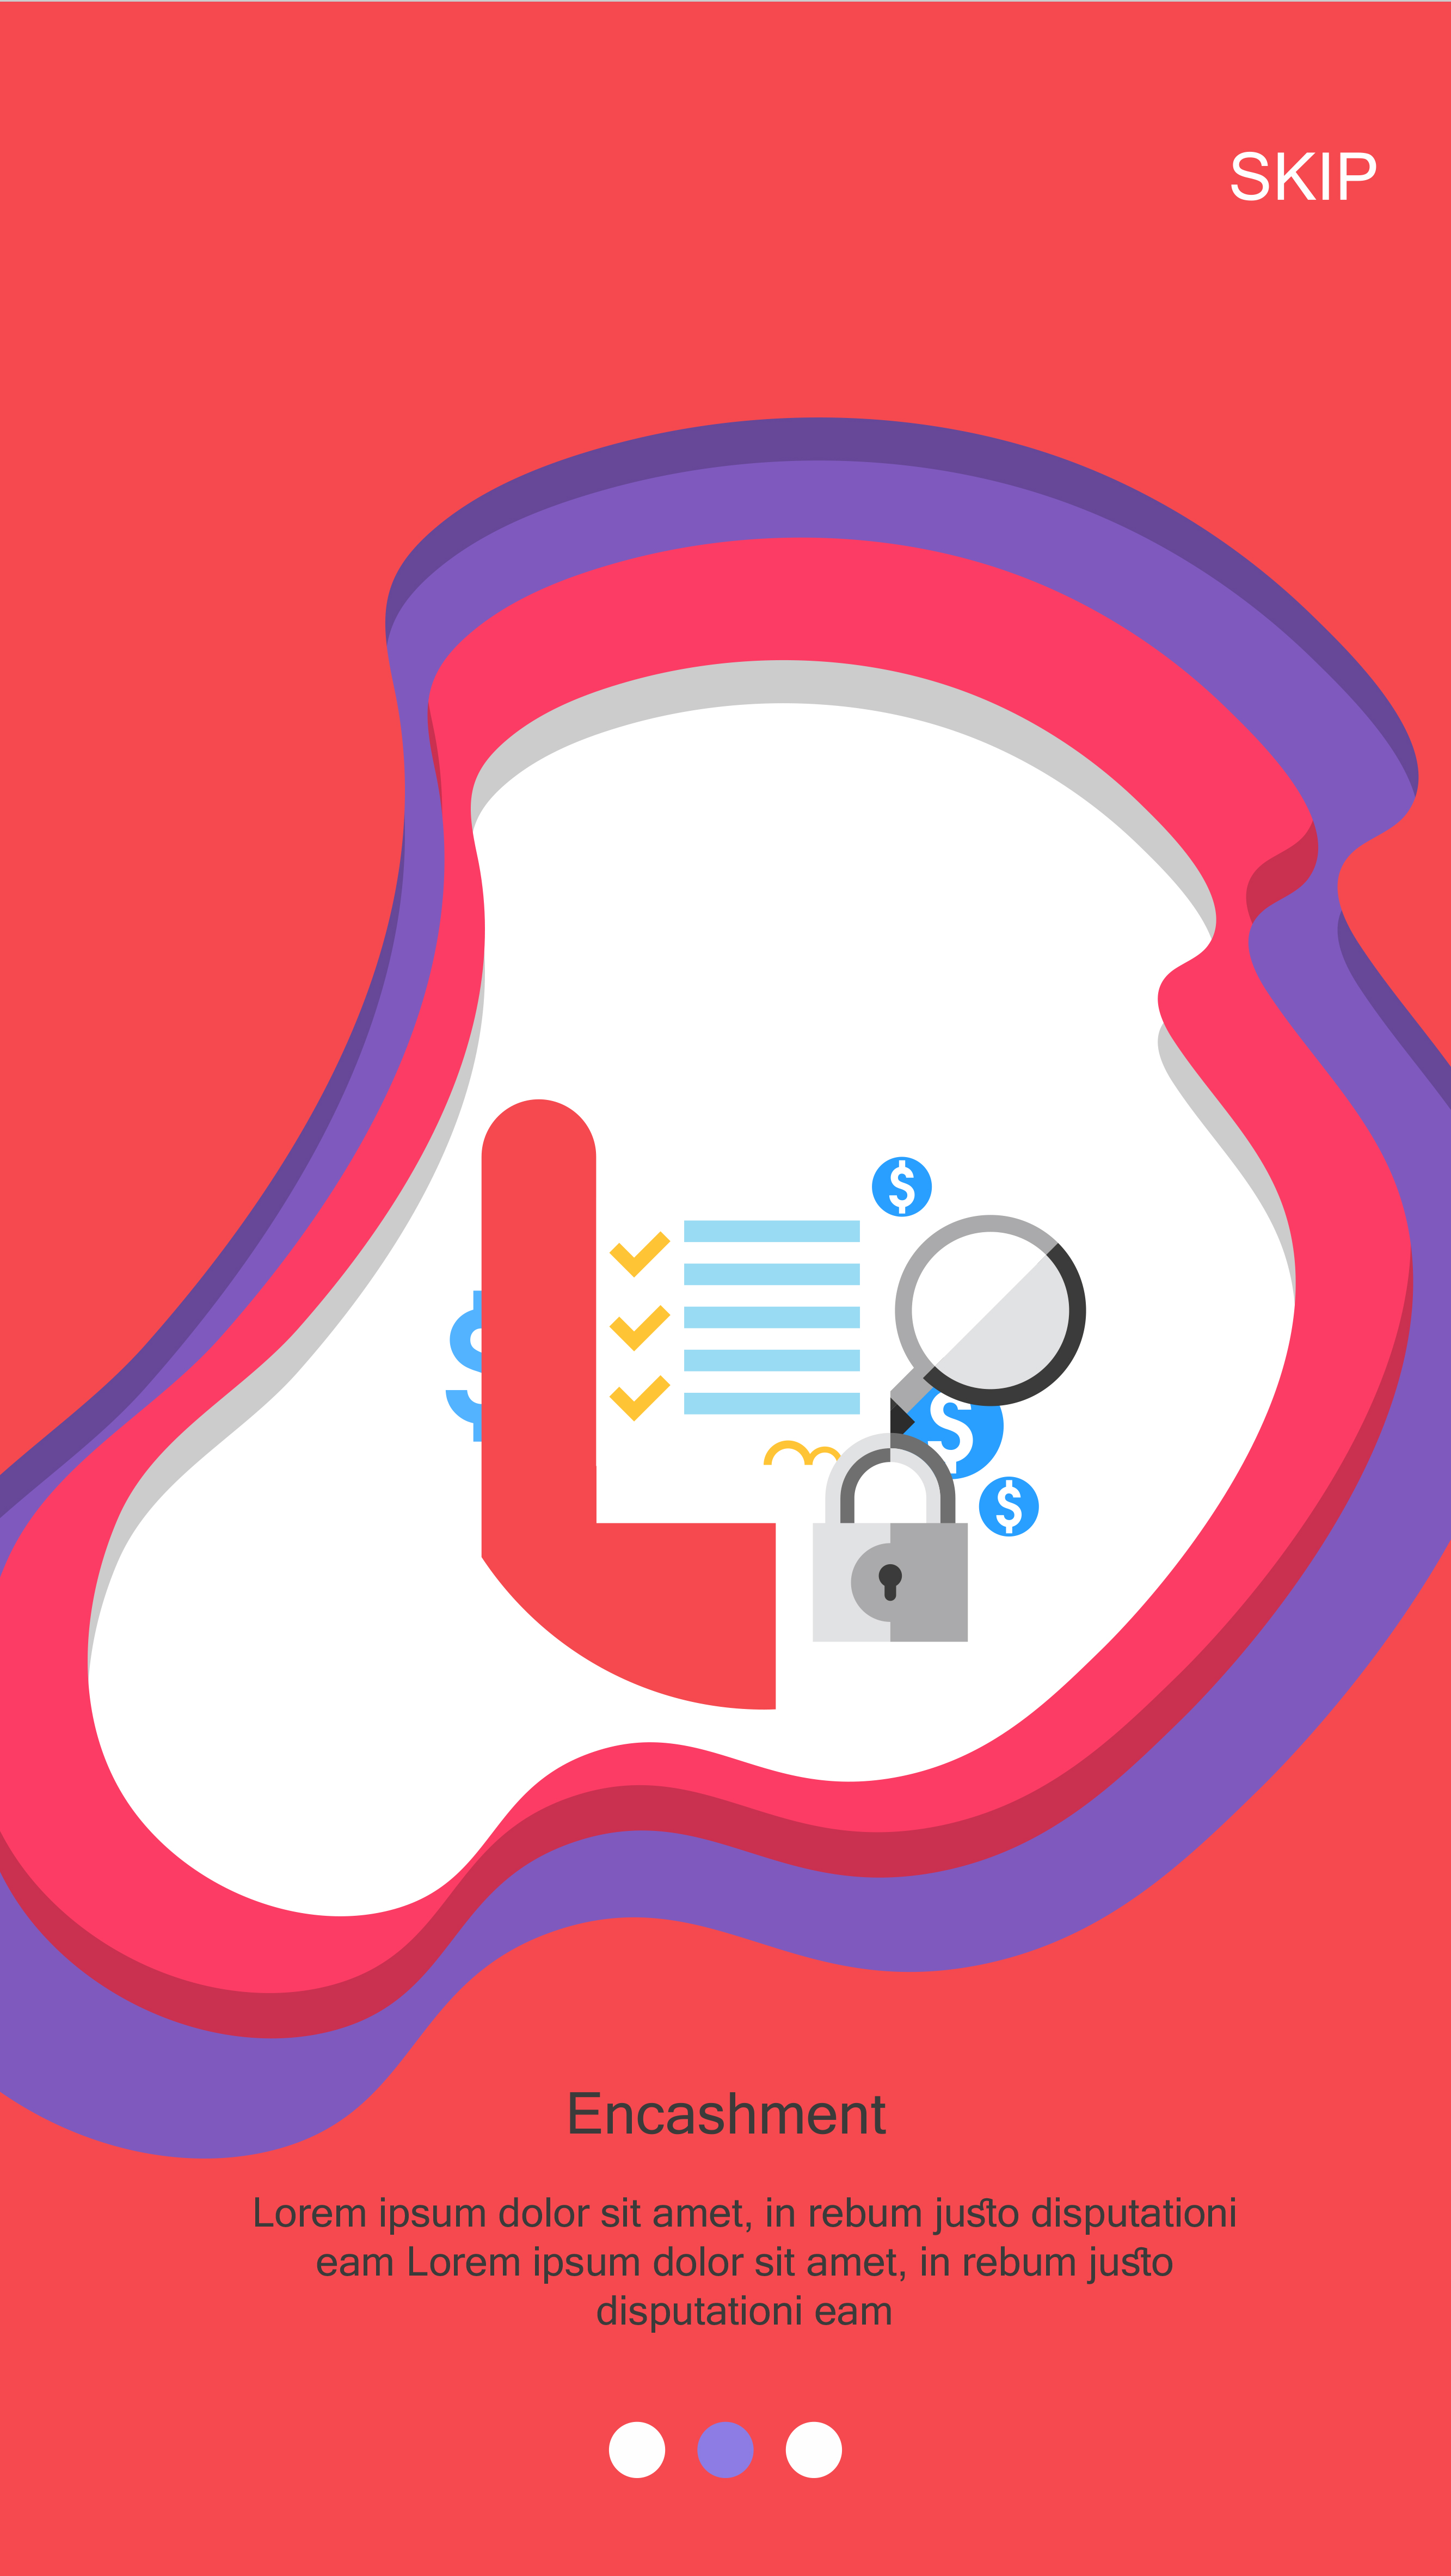BackgroundImage: (0, 0, 1451, 2576)
Image: (446, 1099, 1088, 1711)
PageIndicator: (609, 2420, 844, 2480)
Text: (255, 2196, 1237, 2334), (570, 2091, 887, 2135), (1230, 152, 1377, 202)
